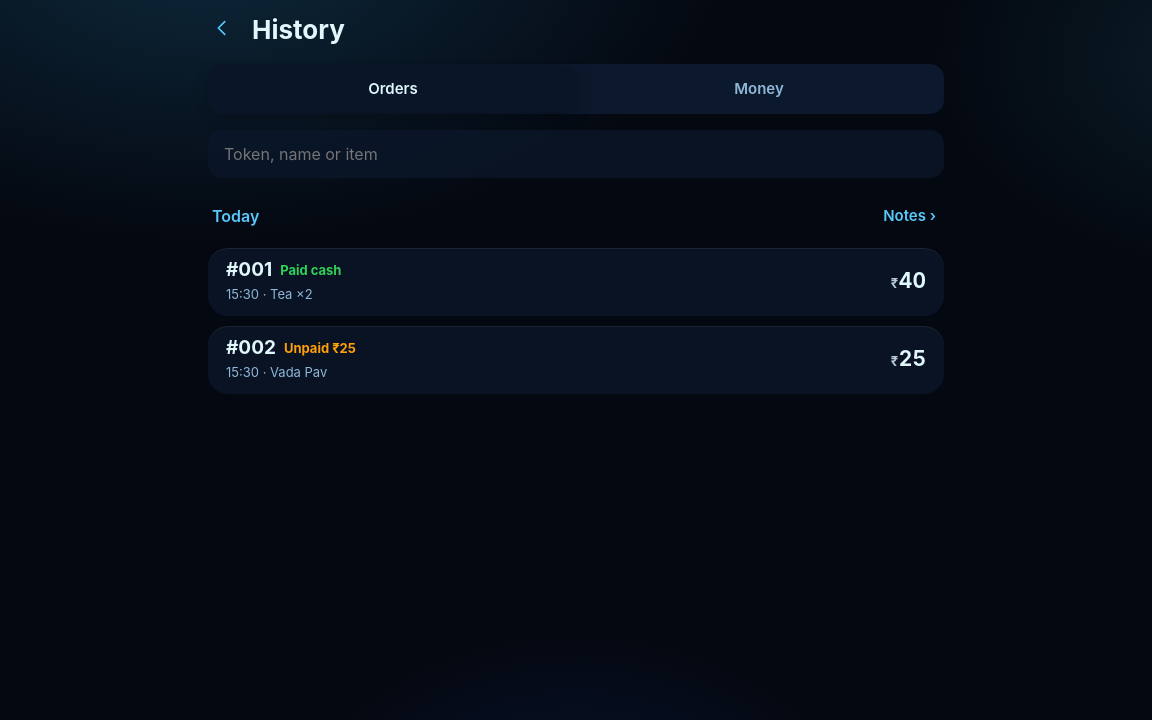
Test: History (F-64, F-67) › the unpaid row offers Take payment; Money tab lists entries; Notes › saves a day note
This screenshot has width=1152, height=720.
Later steps or results of the test are not shown.
Step 1. Click the text "#002" → {"x": 251, "y": 348}, box [226, 337, 276, 359]
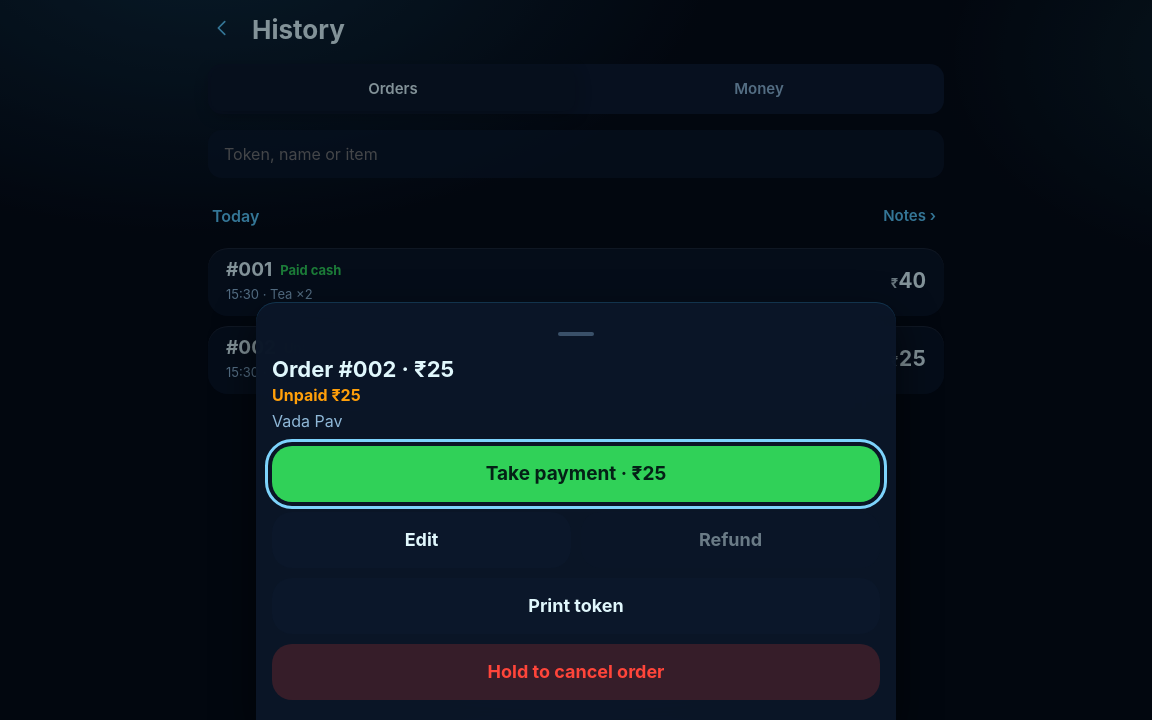
Result: the button "Take payment · ₹25" is shown at [272, 446, 880, 502]
Result: the button "Refund" is disabled at [581, 512, 880, 568]
